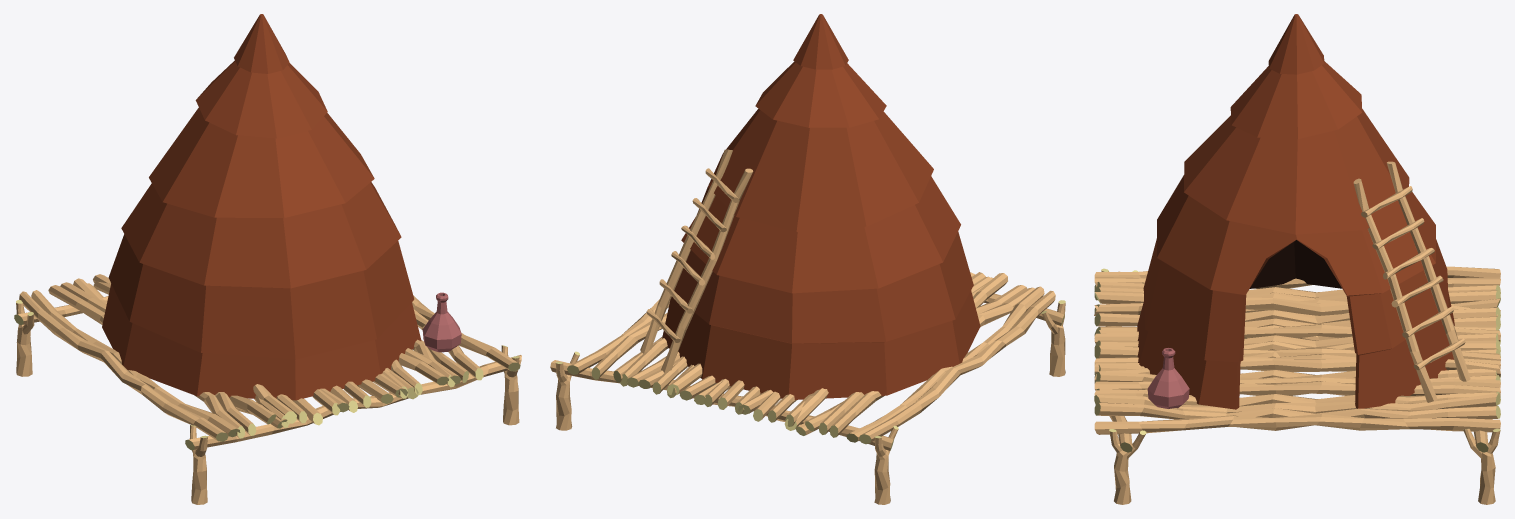
Rendered from casa1.fbx.
3 renders of one model, left to right at view 1: azimuth 30°, elevation 25°; view 2: azimuth 150°, elevation 25°; view 3: azimuth 270°, elevation 25°, orthographic. The views are drawn at different scales.
Visible parts, largest first — view 1: Circle.001; view 2: Circle.001; view 3: Circle.001.
Boxes of the visible parts, x1,y1,x2,y2 form: Circle.001: [14, 14, 521, 504]; Circle.001: [550, 14, 1065, 504]; Circle.001: [1094, 14, 1500, 504].
Bounding box in the file's own units: 367 × 401 × 368.
